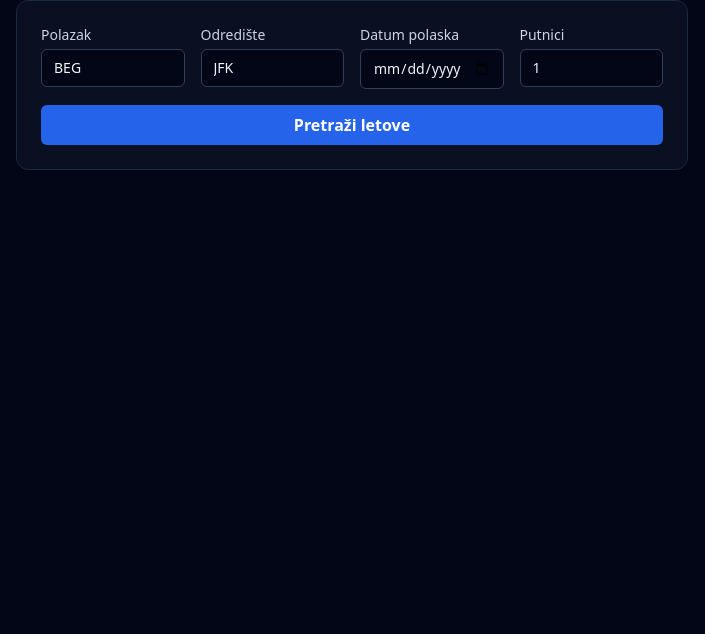
it: SearchForm › does not let the baggage quantity exceed maxQuantity
Click the button "Pretraži letove" at (352, 125), box [41,105,663,145]
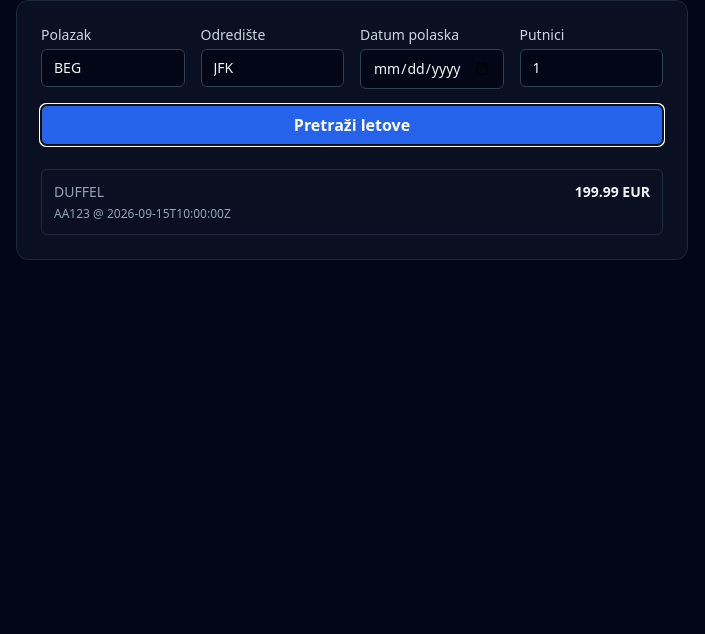
Click the list item "duffel" at (352, 202), box [41,169,663,235]
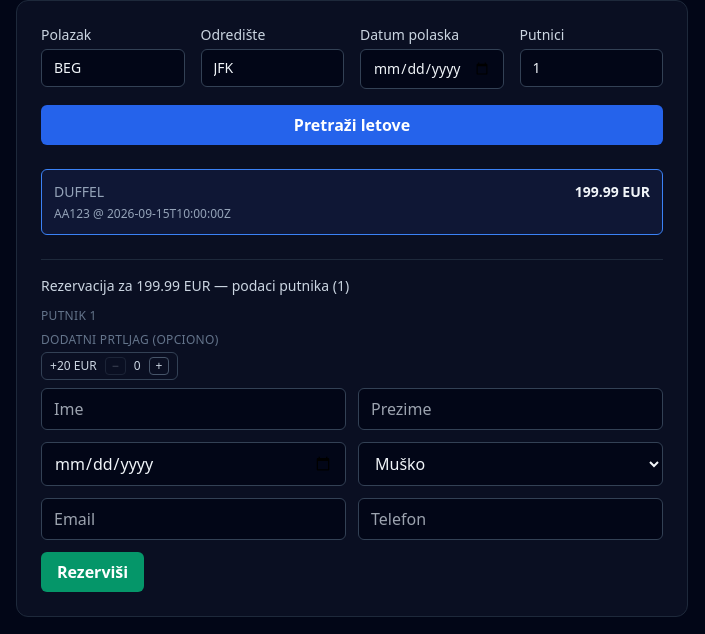
Click the button named "Dodaj prtljag za putnika 1 (Dodatni prtljag)" at (159, 366), box [148,357,169,375]
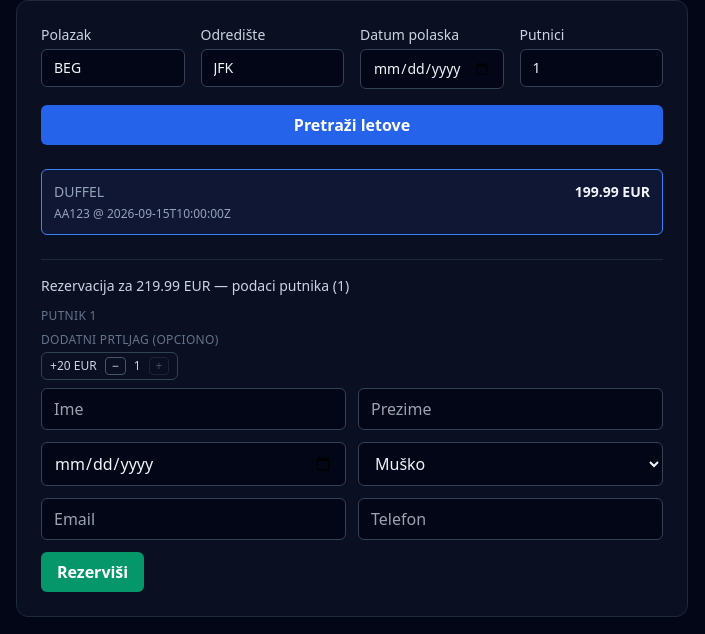
Now the button named "Dodaj prtljag za putnika 1 (Dodatni prtljag)" is disabled, box [148,357,169,375]
